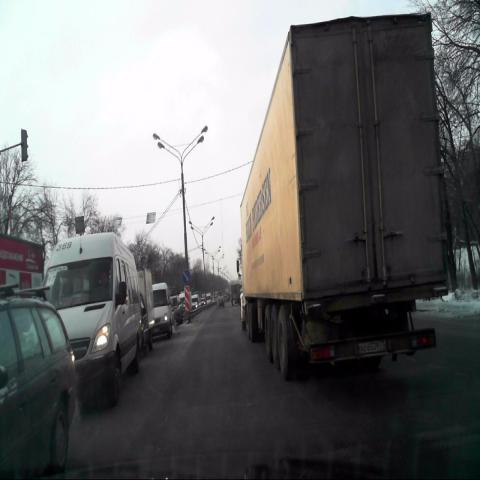4_2_1: (182, 268, 191, 284)
